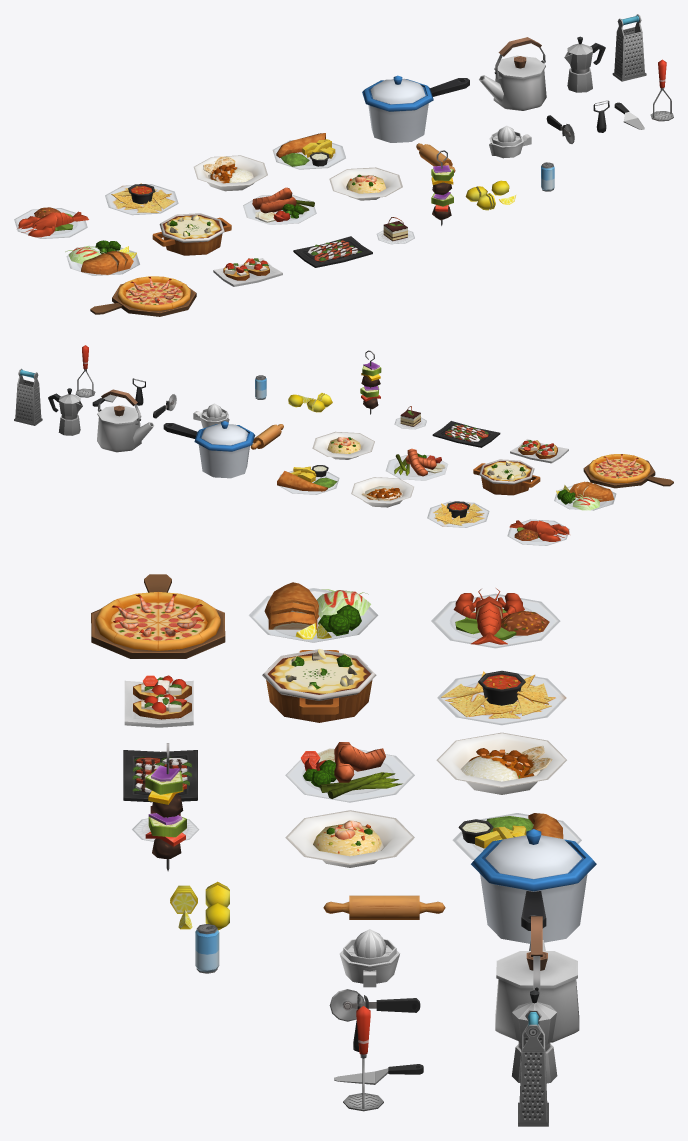
File: FOOD3.FBX
3 views of the same model, one above another, from view 1: azimuth 30°, elevation 25°; view 2: azimuth 150°, elevation 25°; view 3: azimuth 270°, elevation 25° (orthographic). The views are drawn at different scales.
Visible parts, largest first — view 1: pot (×2), kettle, pizza (×2), risotto, curry, pork cutlet, fish and chips, sausage, shrimp risotto, labster, nacho, grater (+8 smaller); view 2: pot (×2), kettle, pizza (×2), risotto, curry, fish and chips, sausage, pork cutlet, shrimp risotto, labster, nacho, grater (+8 smaller); view 3: pot (×2), pizza (×2), risotto, kettle, curry, pork cutlet, sausage, shrimp risotto, labster, nacho, brustchetta, kebab (+10 smaller).
Boxes of the visible parts, x1,y1,x2,y2 form: pot (×2): (362, 75, 469, 142); kettle: (479, 37, 546, 110); pizza (×2): (90, 276, 196, 316); risotto: (152, 213, 231, 255); curry: (193, 155, 267, 191); pork cutlet: (65, 240, 139, 275); fish and chips: (272, 133, 345, 169); sausage: (243, 187, 316, 224); shrimp risotto: (329, 167, 402, 200); labster: (14, 207, 88, 238); nacho: (105, 183, 178, 215); grater: (612, 14, 646, 81); pot (×2): (163, 421, 255, 478); kettle: (97, 389, 154, 452); pizza (×2): (583, 454, 673, 488); risotto: (473, 459, 540, 495); curry: (351, 477, 413, 507); fish and chips: (277, 465, 339, 494); sausage: (385, 448, 448, 480); pork cutlet: (554, 481, 616, 510); shrimp risotto: (312, 431, 374, 459); labster: (507, 519, 569, 545); nacho: (427, 501, 489, 527); grater: (14, 368, 42, 425); pot (×2): (471, 829, 596, 943); pizza (×2): (91, 574, 225, 658); risotto: (262, 649, 376, 722); kettle: (495, 916, 579, 1042); curry: (436, 732, 566, 794); pork cutlet: (248, 582, 378, 642); sausage: (285, 742, 414, 802); shrimp risotto: (285, 810, 414, 867); labster: (431, 588, 560, 648); nacho: (437, 670, 566, 725); brustchetta: (124, 675, 193, 727); kebab: (145, 743, 186, 871).
Size of the model in its own units: 1194 by 131 by 467.
